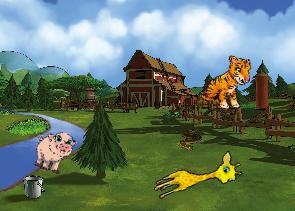giraffe: (150, 148, 245, 210)
pig: (29, 126, 78, 177)
tiger: (199, 51, 254, 113)
